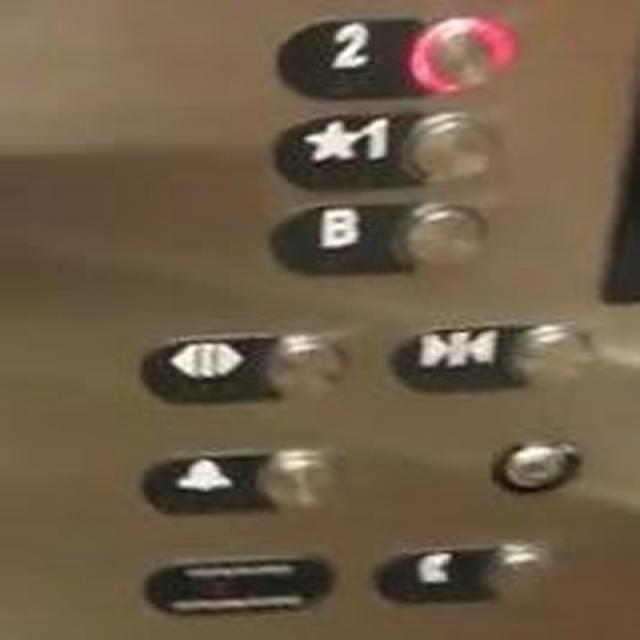2: (272, 6, 523, 101)
B: (268, 198, 493, 275)
alarm: (137, 443, 347, 519)
blur: (137, 553, 336, 615)
call: (368, 540, 556, 602)
close: (385, 318, 599, 396)
keyhole: (487, 436, 589, 494)
open: (137, 332, 351, 407)
s1: (266, 106, 510, 195)
